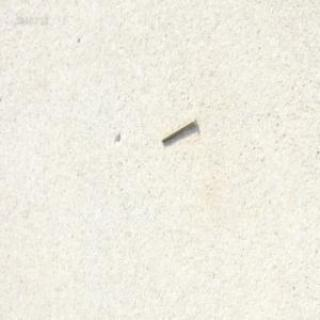Bolttrack_idkeyframe: (159, 113, 195, 143)
